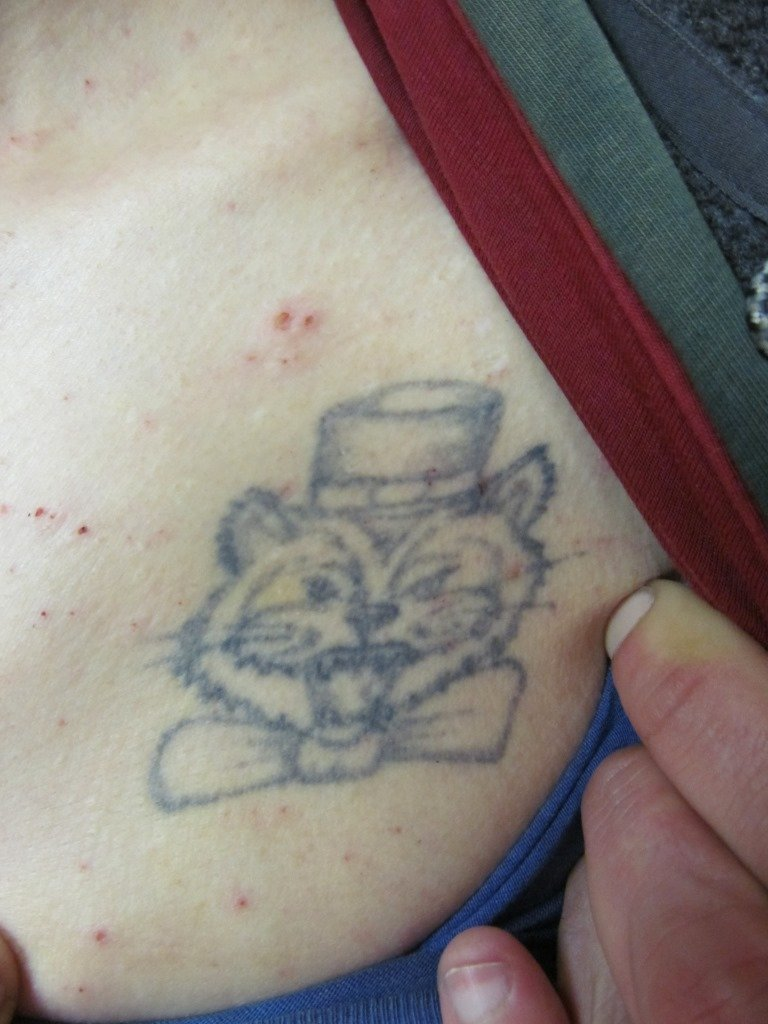tatu8_kot: (155, 381, 556, 812)
